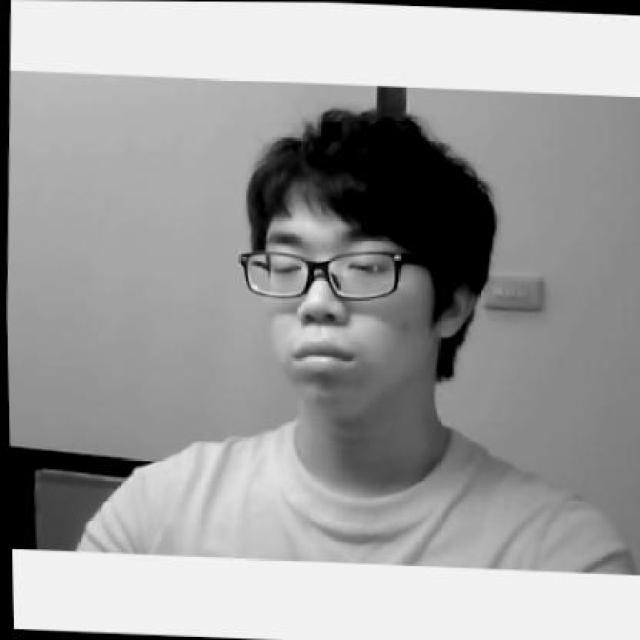inattentif: (232, 100, 486, 425)
